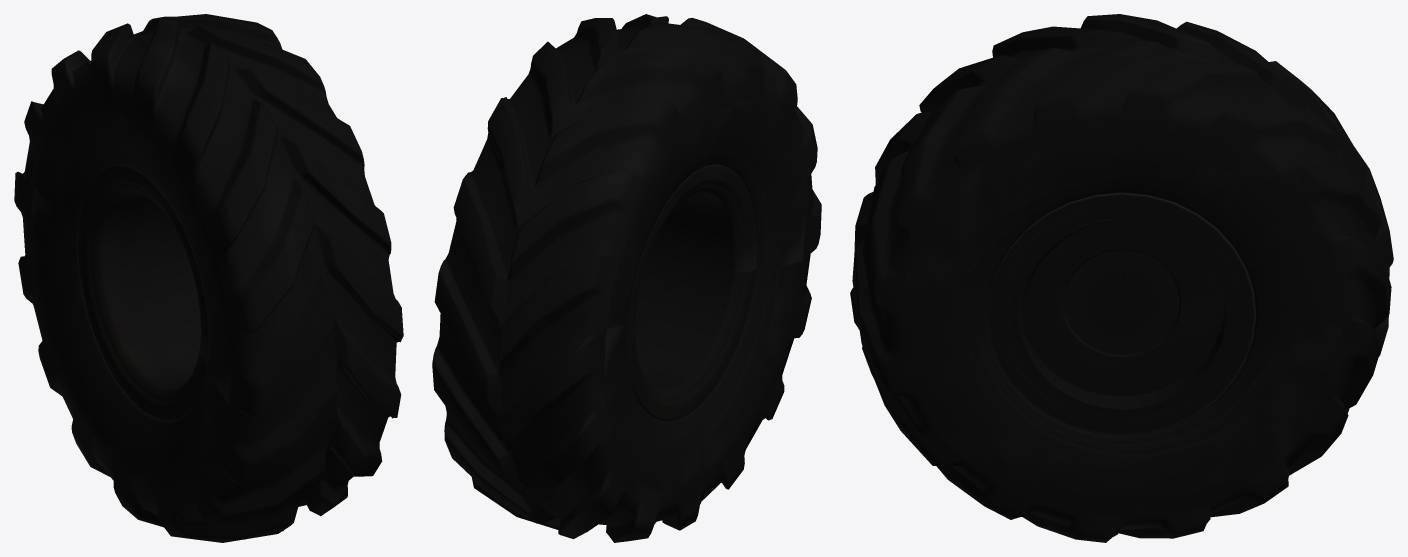
The picture shows the model from 3 angles, left to right: view 1: azimuth 30°, elevation 25°; view 2: azimuth 150°, elevation 25°; view 3: azimuth 270°, elevation 25°; orthographic projection.
Parts seen in each view (by area): view 1: Tire3; view 2: Tire3; view 3: Tire3.
Part boxes in pixels (bbox=[...]): Tire3: bbox=[14, 14, 403, 542]; Tire3: bbox=[432, 14, 821, 542]; Tire3: bbox=[850, 14, 1393, 542].
Size of the model in its own units: 31.43 by 91.68 by 91.68.
